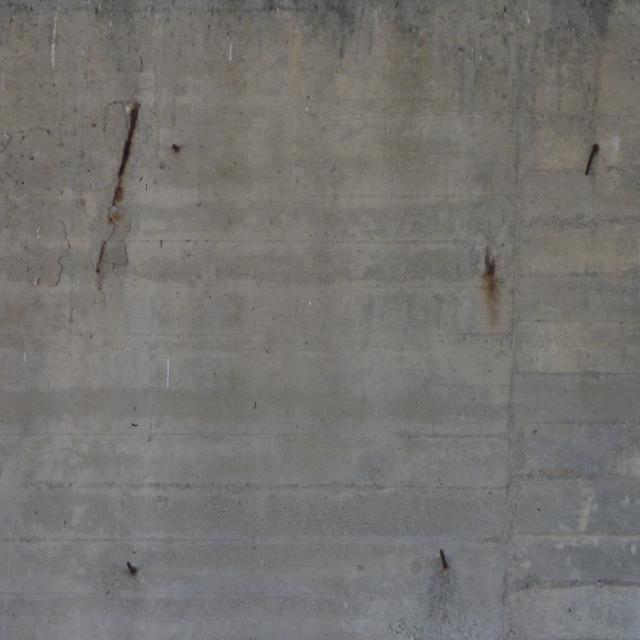corrosion: (81, 89, 198, 303), (473, 240, 517, 338), (567, 133, 607, 194), (432, 537, 454, 582), (124, 558, 151, 584)
